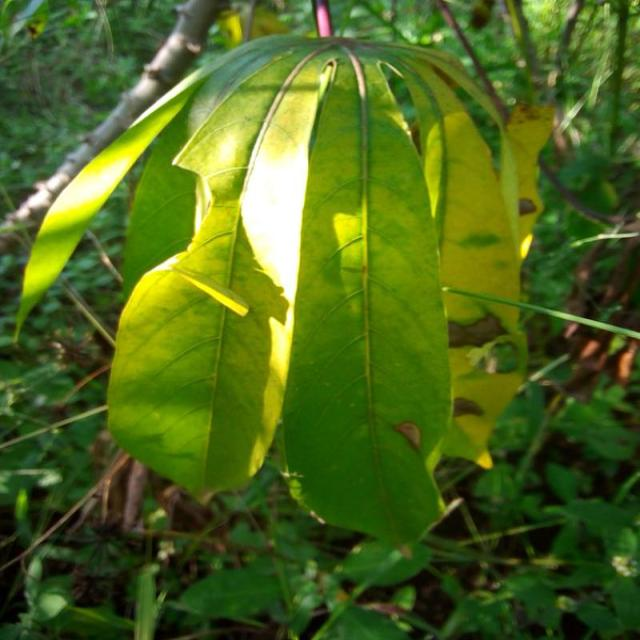cassava leaf: (17, 30, 555, 549), (280, 49, 454, 548)
